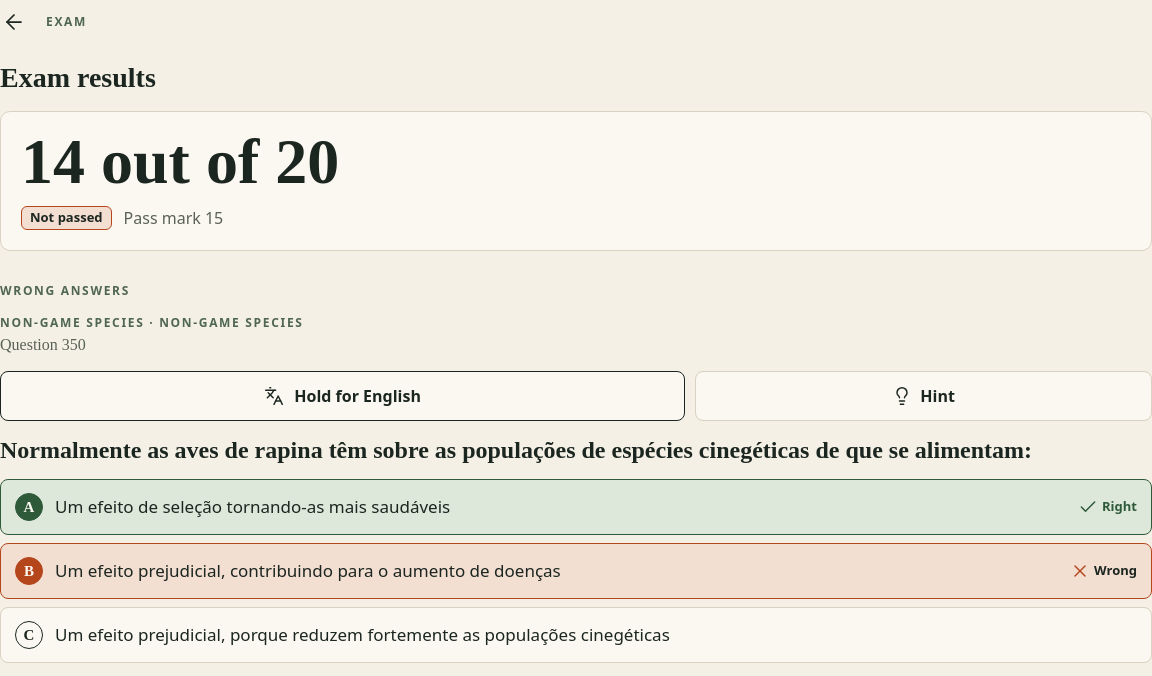
Test: the results of a finished exam › peeks one card at a time while its button is held, and opens its own hint, with no keys
The image size is (1152, 676).
Press the mouse on the button "Hold for English" at (343, 396), box [0,371,685,421]
Expected: the text "Normally birds of prey have, on the populations of game species on which they feed:" is shown, [0,435,1151,465]
Expected: the text "Normalmente as aves de rapina têm sobre as populações de espécies cinegéticas de que se alimentam:" is shown, [0,437,1032,463]
Type keys "[Space>]"
Type keys "[/Space]"
(page scrolled)
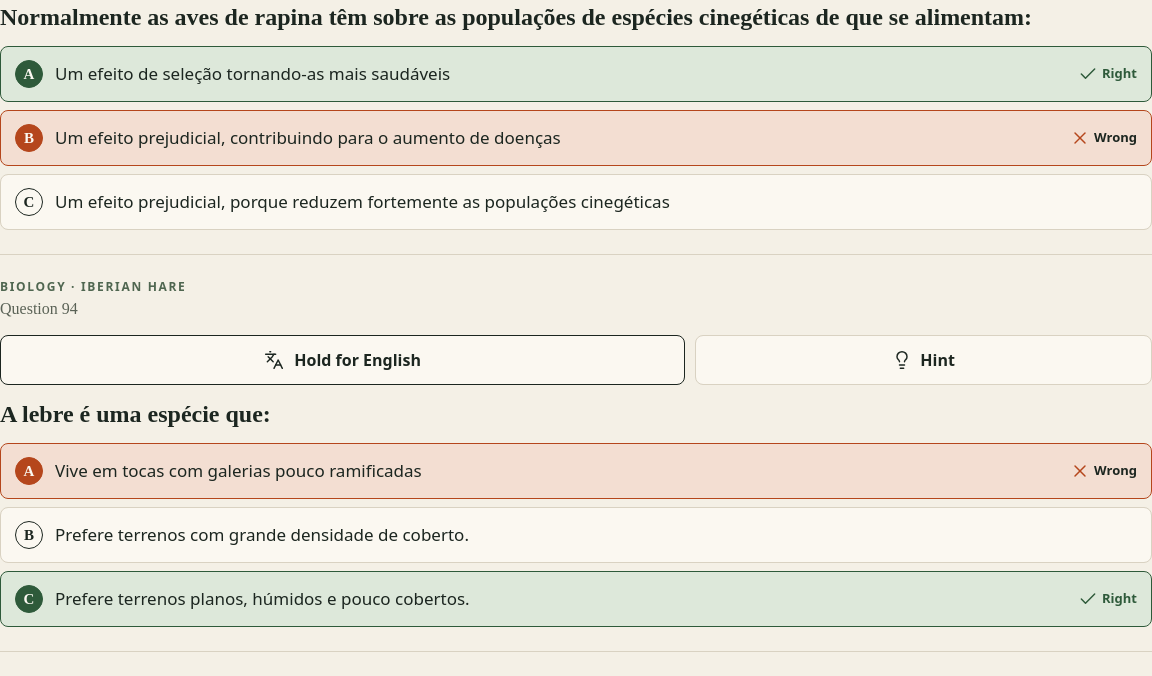
Click the button "Hint" at (924, 360), box [695,335,1151,385]
(page scrolled)
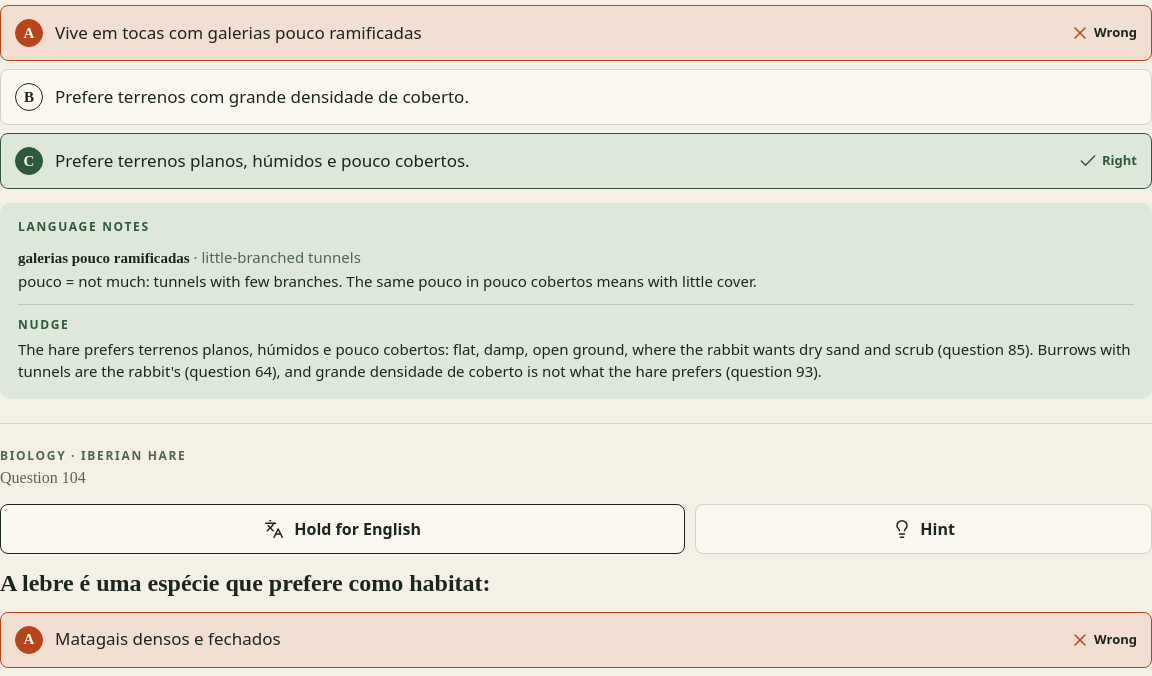
Expected: the element named "Hint" is shown, [0,203,1151,398]
Expected: the text "The hare prefers terrenos planos, húmidos e pouco cobertos: flat, damp, open ground, where the rabbit wants dry sand and" is shown, [18,339,1131,381]
